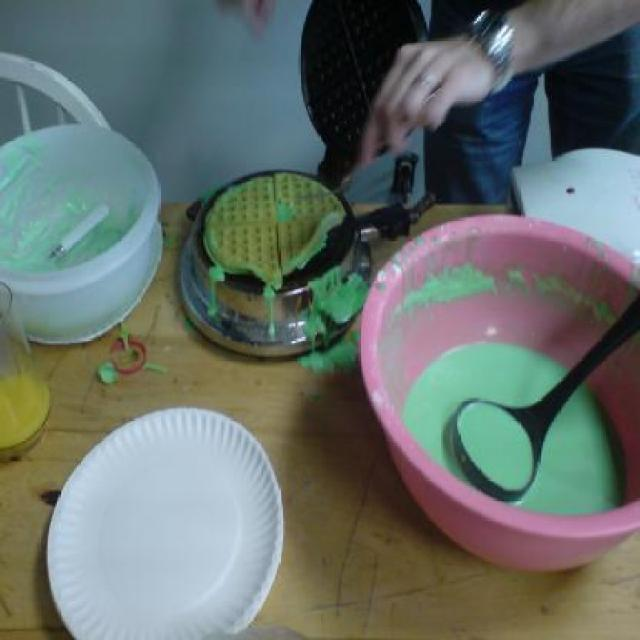Waffle: (202, 172, 351, 300)
